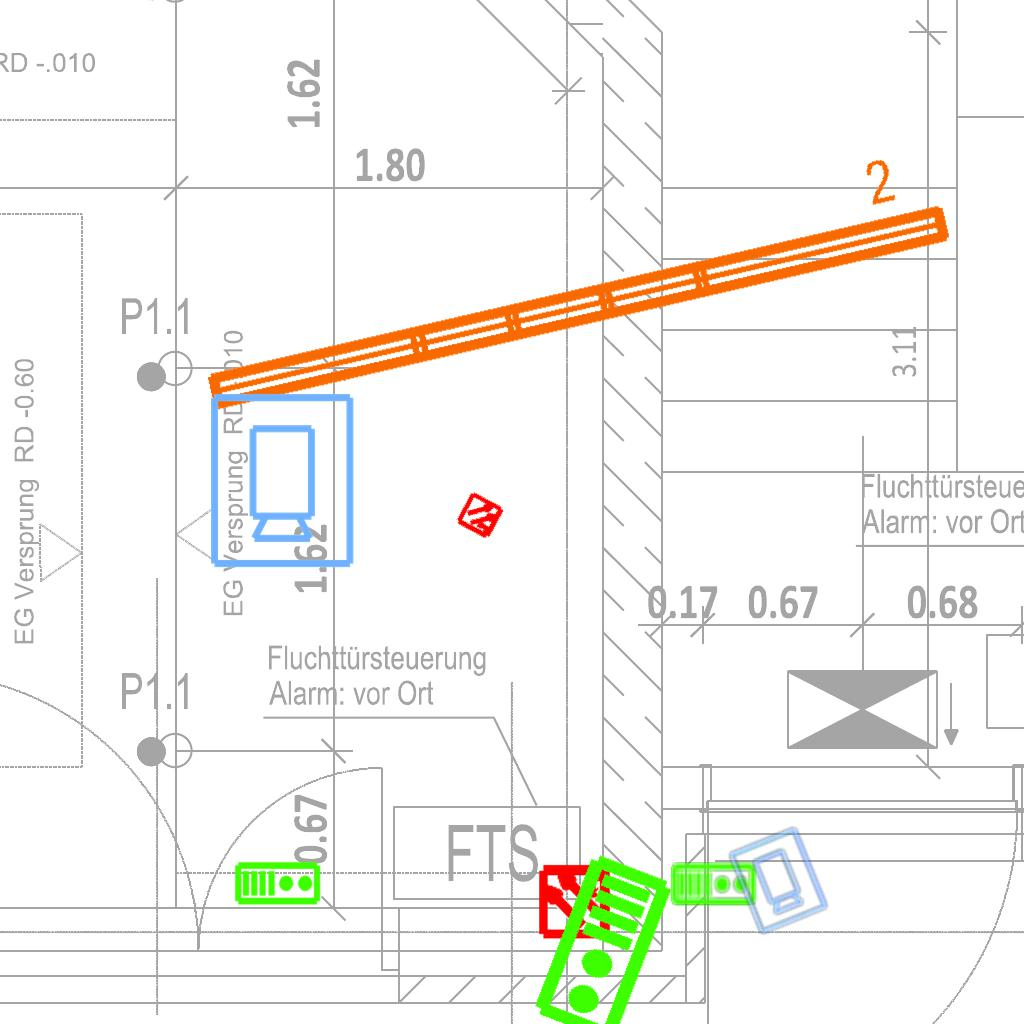Ambulanz_Pendelleuchte_LED: (182, 141, 962, 425)
Gegensprechanlage_mit_Video: (528, 849, 681, 1024), (670, 860, 758, 907), (234, 859, 322, 906)
KFO_Kamera_mit_Festobjektiv: (204, 389, 358, 571), (724, 823, 831, 938)
OT_Multisensormelder_(Kombination_RMO_WMD): (518, 843, 631, 956), (443, 478, 519, 554)
